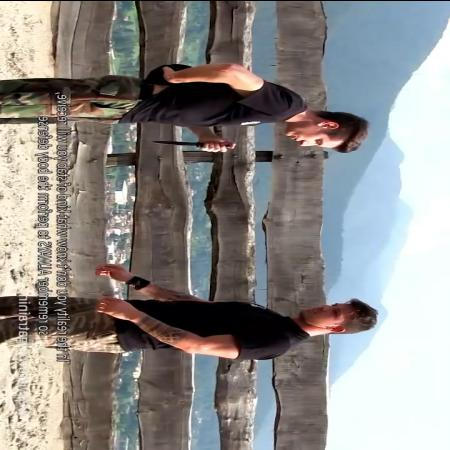long weapon: (150, 136, 240, 156)
